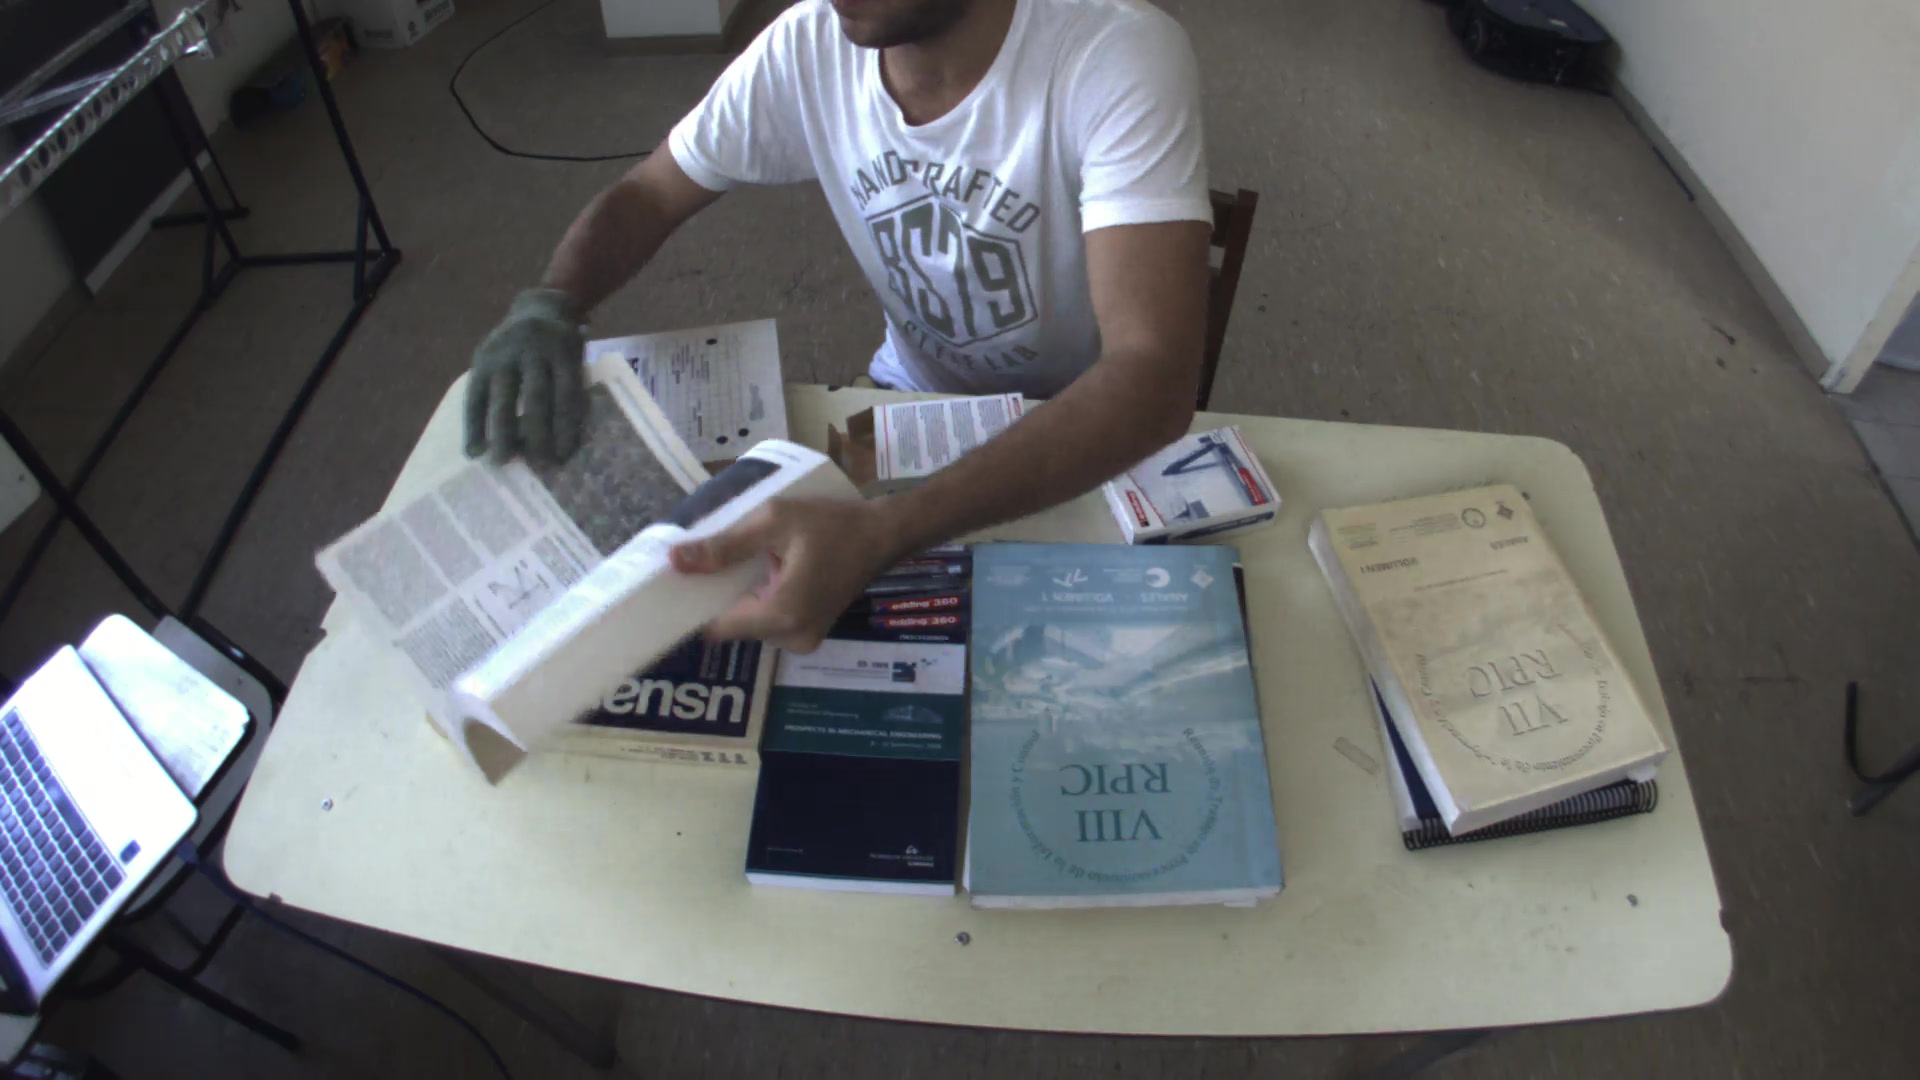hand: (661, 473, 889, 669), (454, 277, 600, 462)
